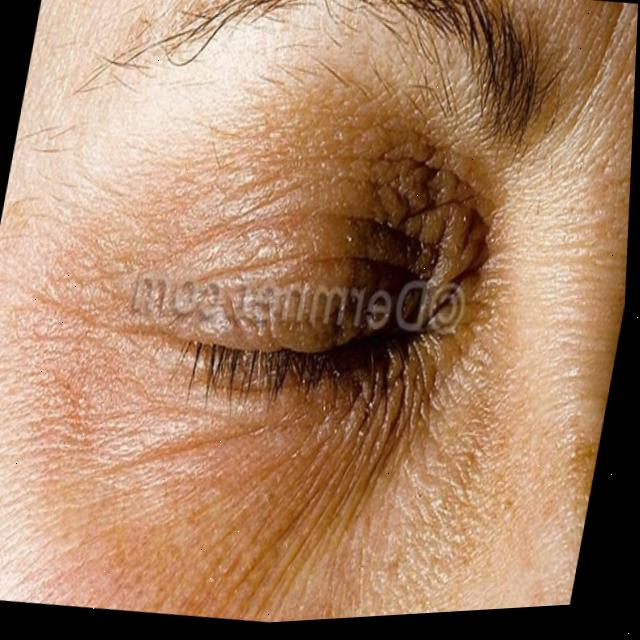Eczema: (72, 64, 508, 606)
